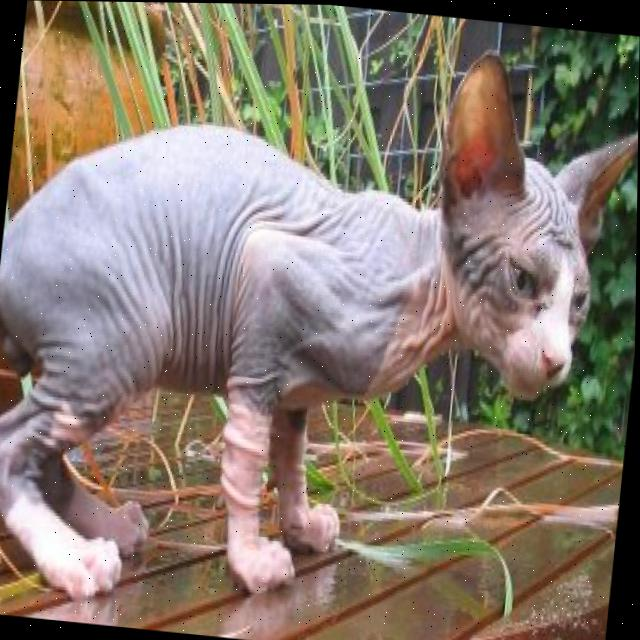Sphynx: (0, 1, 640, 640)
